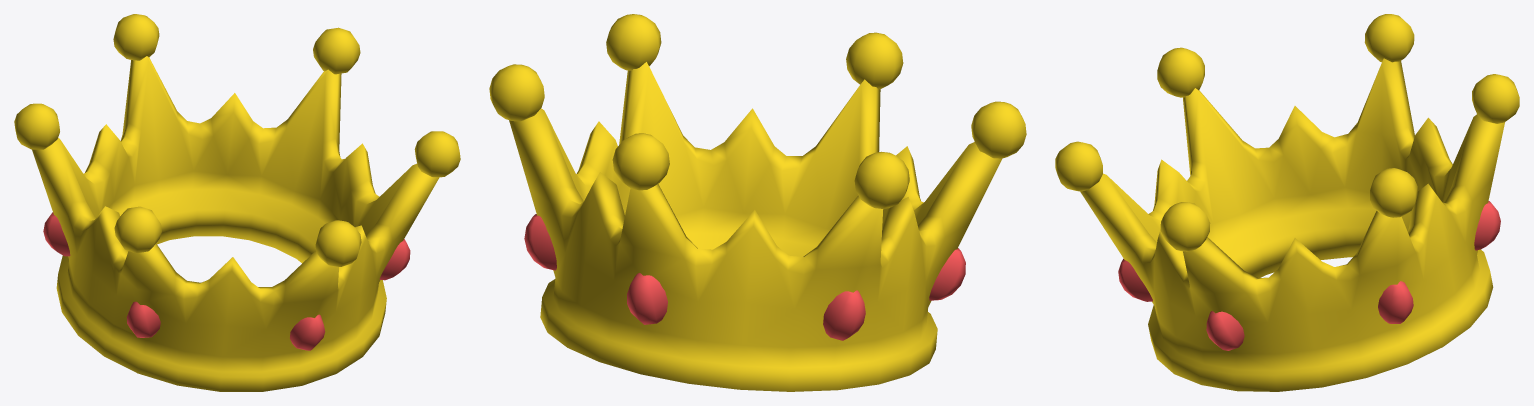
File: crown.fbx
The picture shows the model from 3 angles, left to right: view 1: azimuth 30°, elevation 25°; view 2: azimuth 150°, elevation 25°; view 3: azimuth 270°, elevation 25°; orthographic projection. The views are drawn at different scales.
Parts seen in each view (by area): view 1: crown; view 2: crown; view 3: crown.
Boxes of the visible parts, bbox=[...] form: crown: bbox=[14, 14, 460, 391]; crown: bbox=[489, 14, 1026, 391]; crown: bbox=[1055, 14, 1519, 391].
Bounding box in the file's own units: 29.52 × 20.49 × 32.73.
1 material, 1 textured.
